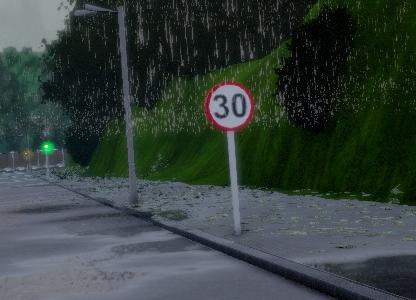Speed_30: (202, 77, 256, 128)
